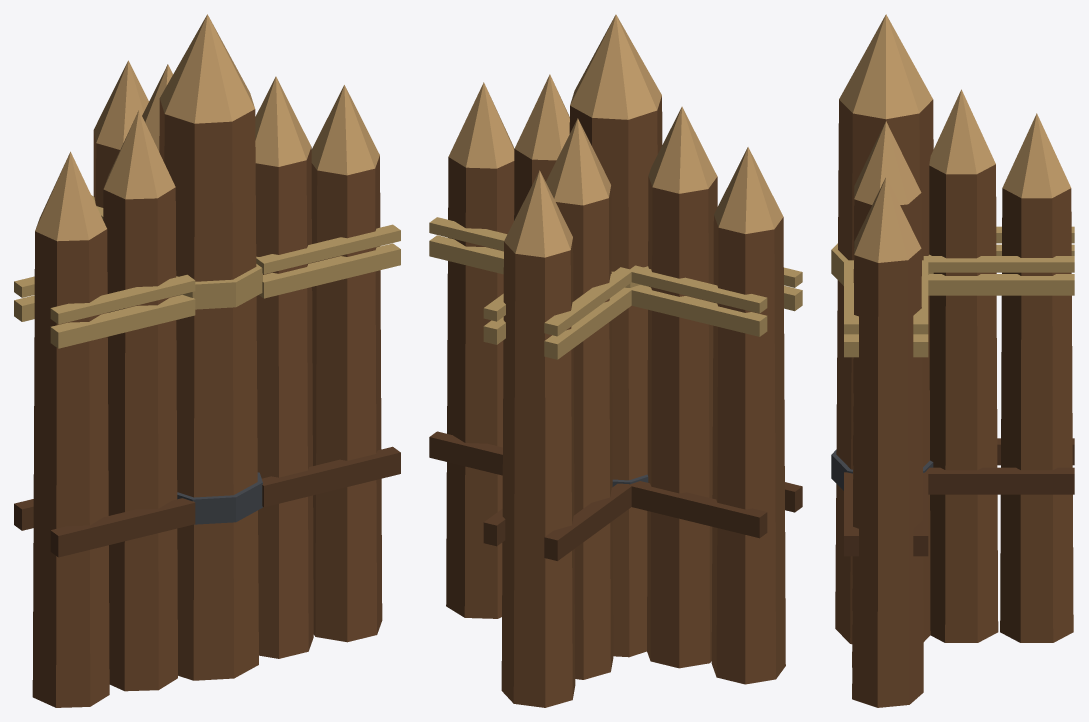
File: palisade_tee.glb
3 views of the same model, side by side, from view 1: azimuth 30°, elevation 25°; view 2: azimuth 150°, elevation 25°; view 3: azimuth 270°, elevation 25° (orthographic). The views are drawn at different scales.
Visible parts, largest first — view 1: wall_palisade_tee; view 2: wall_palisade_tee; view 3: wall_palisade_tee.
Boxes of the visible parts, bbox=[...] form: wall_palisade_tee: bbox=[14, 14, 400, 707]; wall_palisade_tee: bbox=[429, 14, 802, 707]; wall_palisade_tee: bbox=[831, 14, 1074, 707].
Size of the model in its own units: 2 by 3.6 by 1.29.
